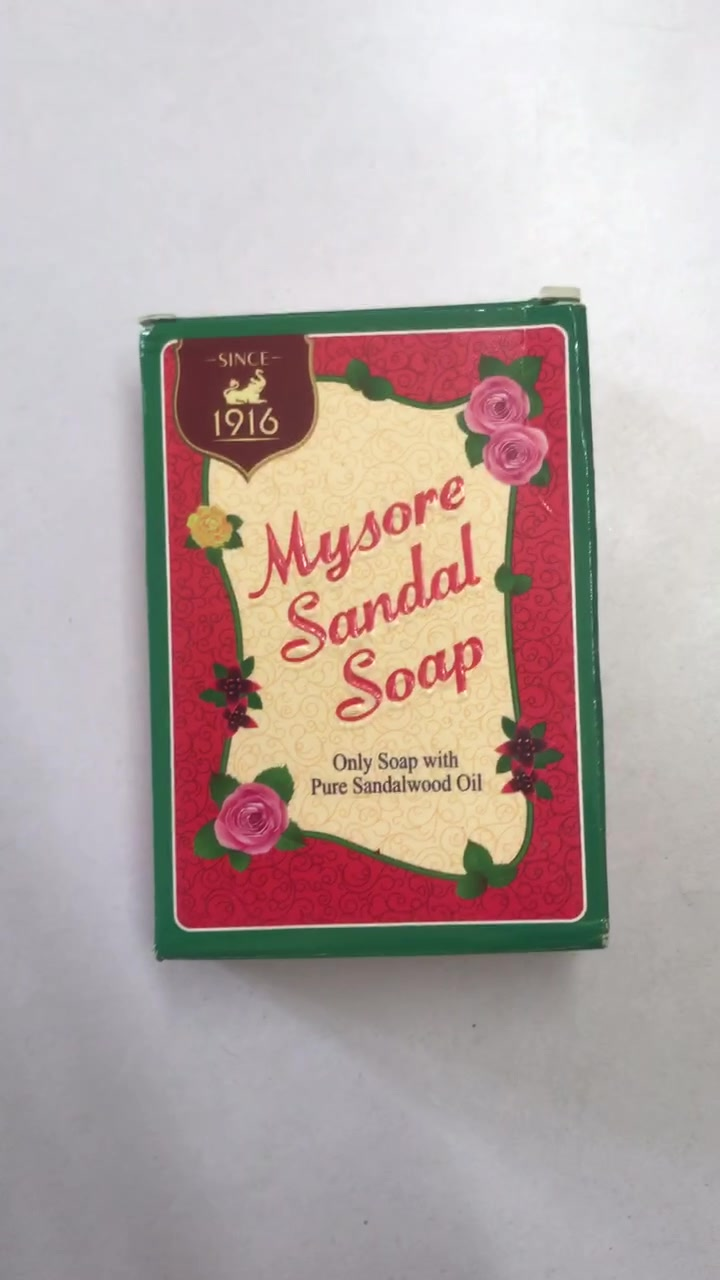mysore sandal soap: (142, 300, 605, 957)
